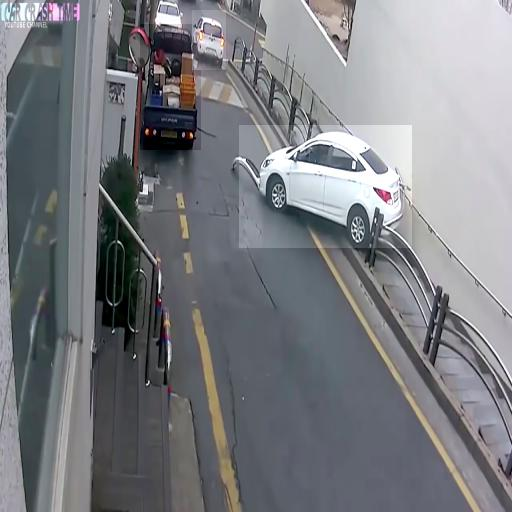小汽车: (140, 24, 201, 150), (192, 10, 226, 70)
小汽车撞物: (239, 125, 412, 248)
